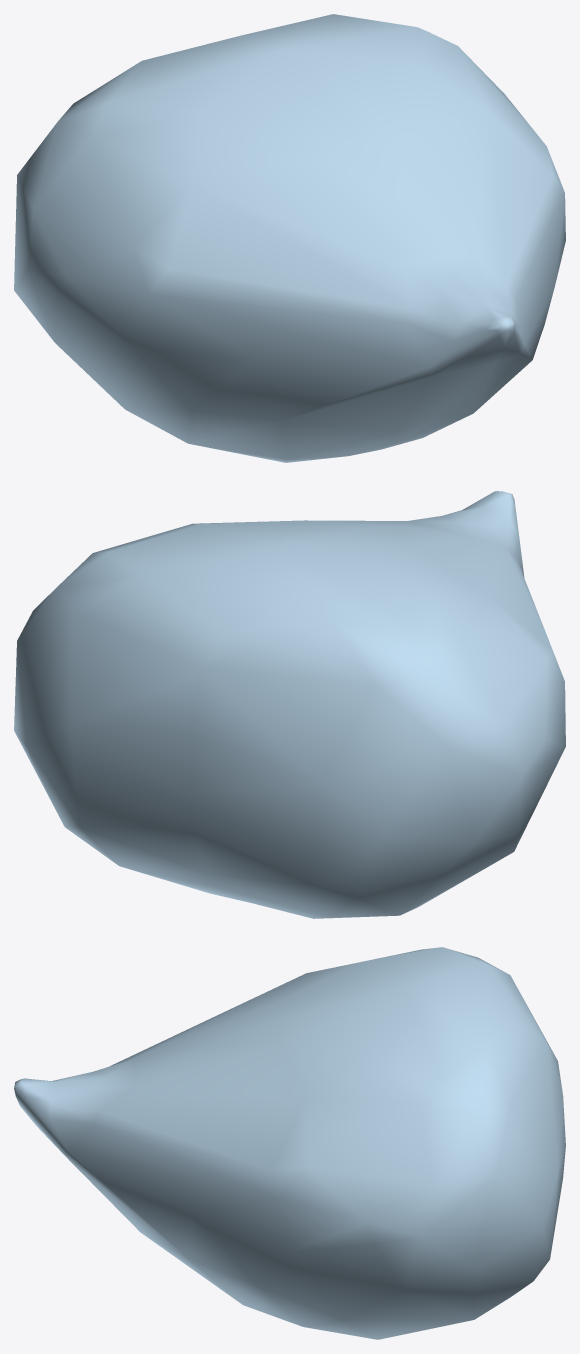
The model's file is bexiga.glb.
3 renders of one model, top to bottom at view 1: azimuth 30°, elevation 25°; view 2: azimuth 150°, elevation 25°; view 3: azimuth 270°, elevation 25°, orthographic. The views are drawn at different scales.
Parts seen in each view (by area): view 1: bexiga; view 2: bexiga; view 3: bexiga.
Part boxes in pixels (left/top/right/bottom): bexiga: left=14, top=14, right=565, bottom=462; bexiga: left=14, top=491, right=565, bottom=918; bexiga: left=14, top=947, right=565, bottom=1339.
Bounding box in the file's own units: 0.0759 × 0.0529 × 0.0839.
